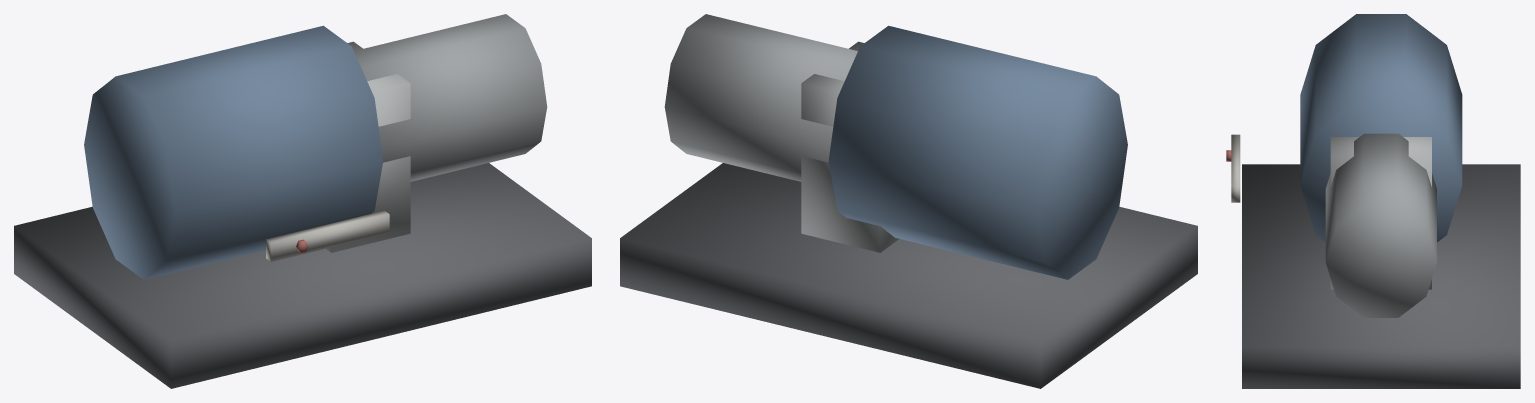
The model's file is pump_skid__tall.glb.
3 renders of one model, left to right at view 1: azimuth 30°, elevation 25°; view 2: azimuth 150°, elevation 25°; view 3: azimuth 270°, elevation 25°, orthographic. The views are drawn at different scales.
Parts seen in each view (by area): view 1: world; view 2: world; view 3: world.
Part boxes in pixels (x1,y1,x2,y2): world: [14, 14, 591, 388]; world: [620, 14, 1197, 388]; world: [1226, 14, 1520, 388].
Bounding box in the file's own units: 0.855 × 0.4549 × 0.581.
